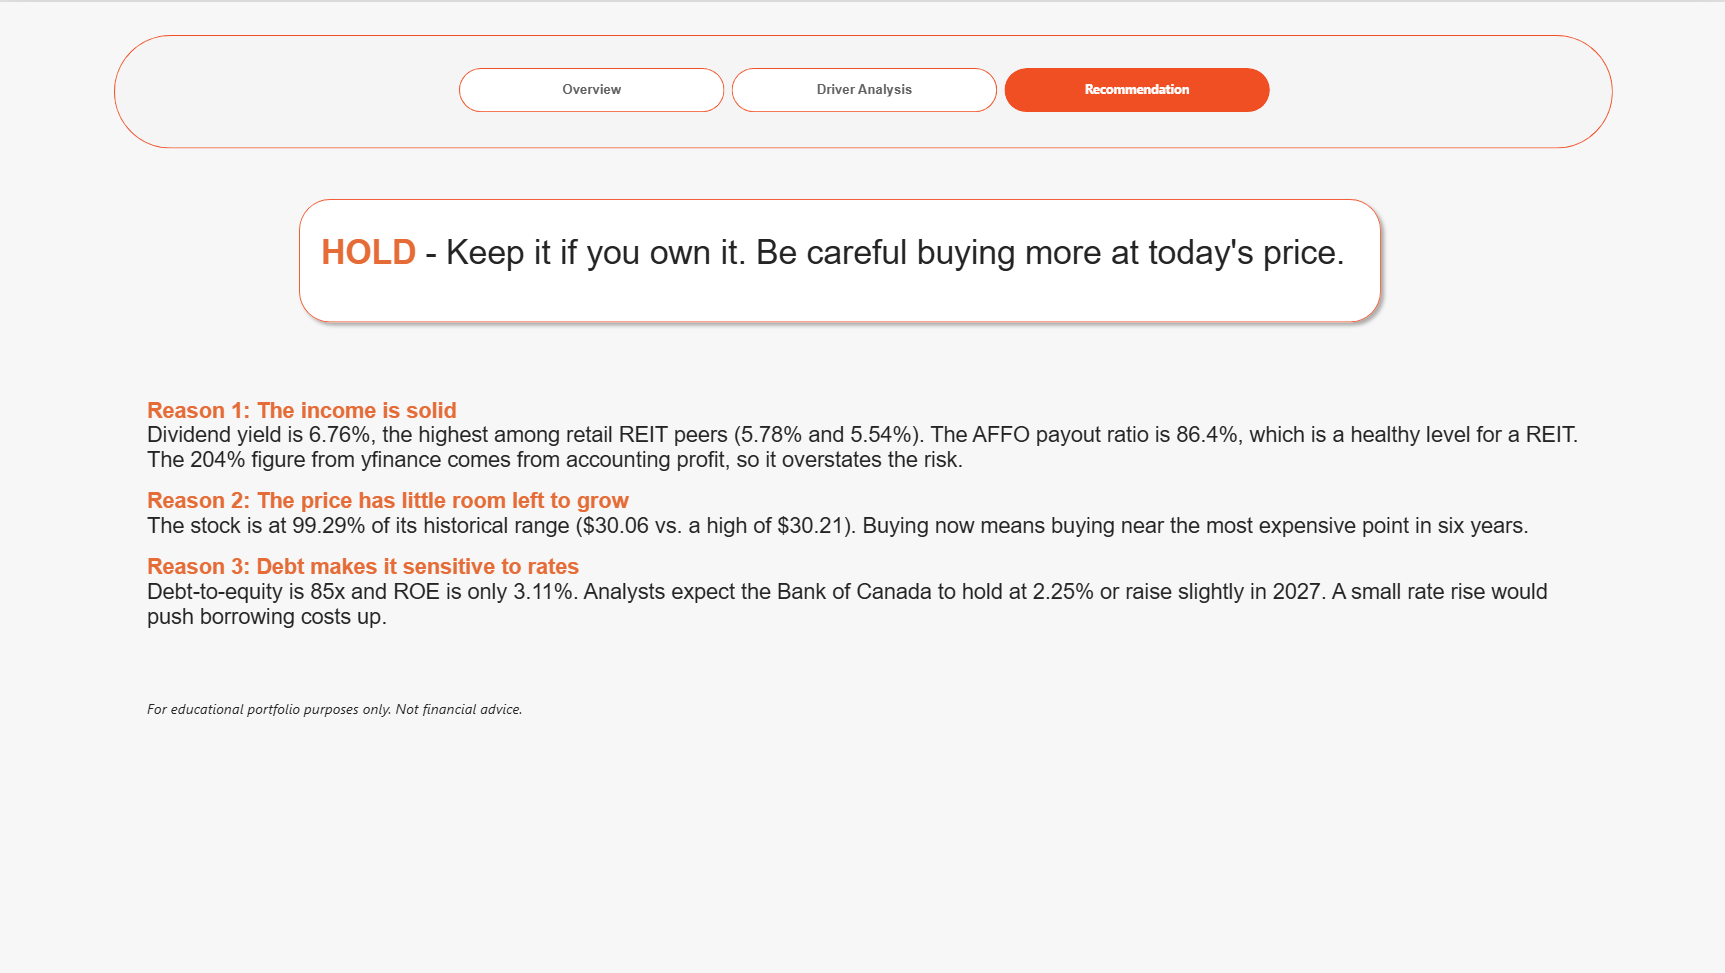

What the dashboard file says about the page in this screenshot:
{"tool":"powerbi","page":{"name":"Recommendation","canvas":[1920,1080],"ordinal":2},"visuals":[{"type":"shape","box":[126.1,35,1665.4,126.1],"z":0},{"type":"pageNavigator","box":[509.2,72.4,901.6,49.1],"z":1000},{"type":"shape","box":[322.5,210,1220,155],"z":1500},{"type":"textbox","box":[355,256.7,1152.5,77.5],"z":2000},{"type":"textbox","box":[163.3,440,1593.3,300],"z":2001},{"type":"textbox","box":[163.3,773.3,463.3,156.7],"z":2002}]}

Visuals, with their boxes in screenshot pixels (x1, y1, x2, y2), scaled from the page's 1920x1080 canvas onto the 1725x973 screenshot:
shape: [113, 32, 1610, 145]
pageNavigator: [457, 65, 1268, 109]
shape: [290, 189, 1386, 329]
textbox: [319, 231, 1354, 301]
textbox: [147, 396, 1578, 667]
textbox: [147, 697, 563, 838]
